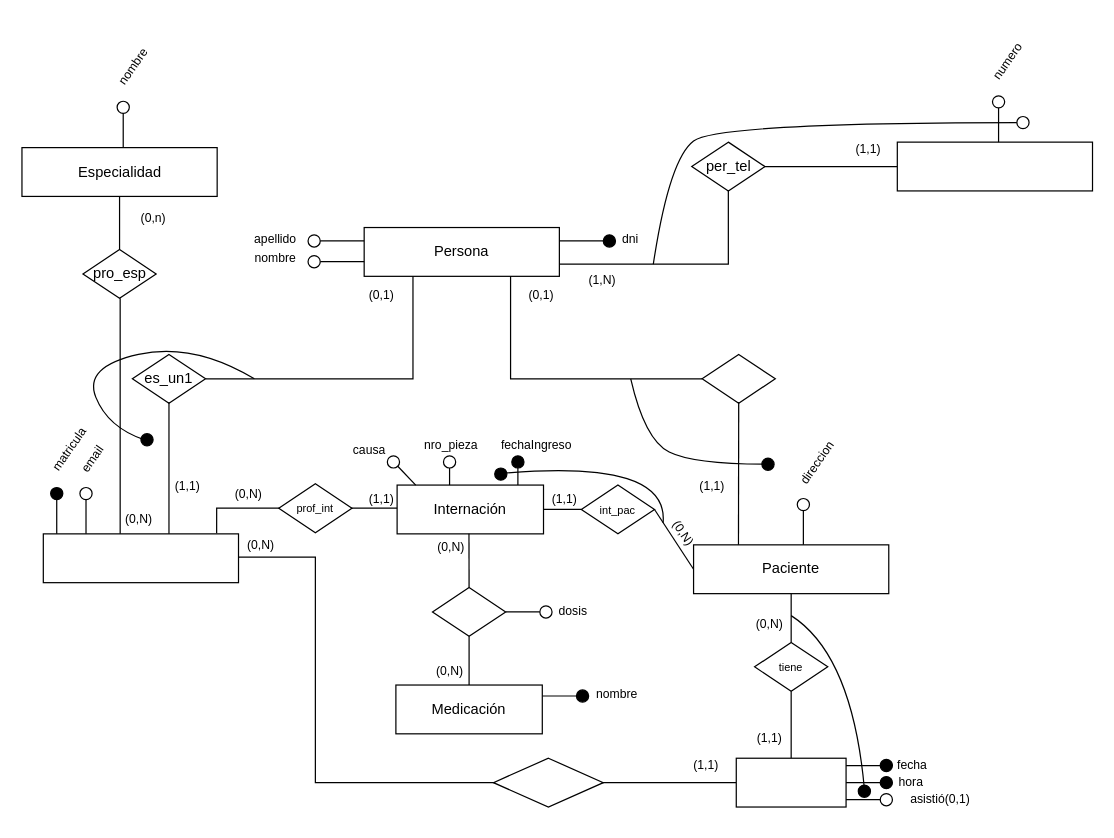
Some shapes in this 1114 by 838 pixel diagram are drawn without their labels. The centre of each missing label's shape, as x and y in pixels:
"es_un2" belongs at (738,378).
"int_IDmed" belongs at (468,611).
"Profesional" belongs at (140,558).
"profesional_turno" belongs at (547,782).
"Telefono" belongs at (994,166).
"Turno" belongs at (790,782).
